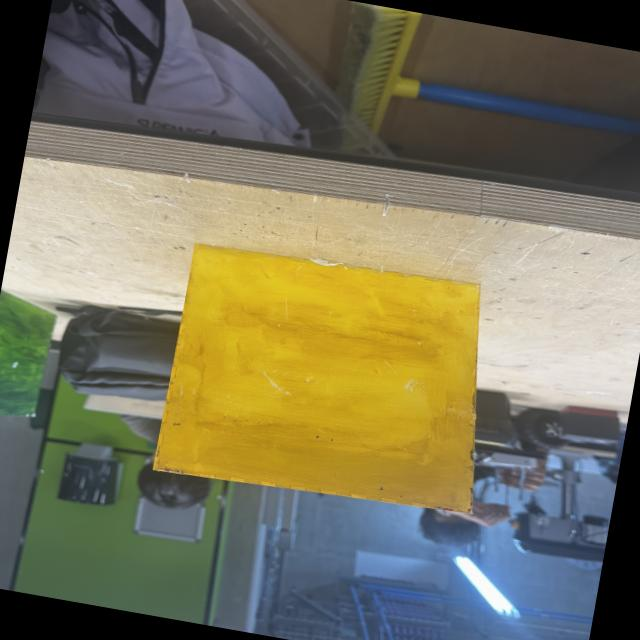yellow_bin: (148, 235, 514, 527)
